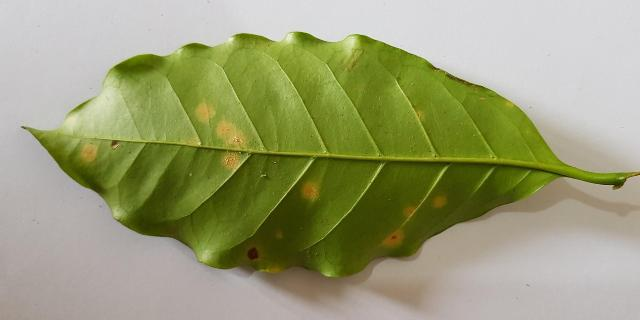miner: (216, 118, 246, 171), (379, 225, 404, 247), (195, 101, 216, 124), (242, 244, 262, 262), (300, 182, 318, 199), (80, 145, 98, 162), (403, 206, 419, 218), (433, 196, 446, 207), (415, 110, 423, 121), (111, 140, 120, 149), (275, 232, 282, 237)
